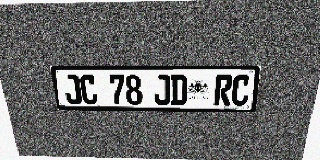7: (108, 75, 126, 105)
8: (125, 75, 142, 105)
C: (231, 75, 251, 106), (79, 75, 98, 105)
D: (171, 75, 188, 105)
J: (62, 75, 82, 104), (153, 75, 170, 105)
R: (214, 75, 233, 106)
